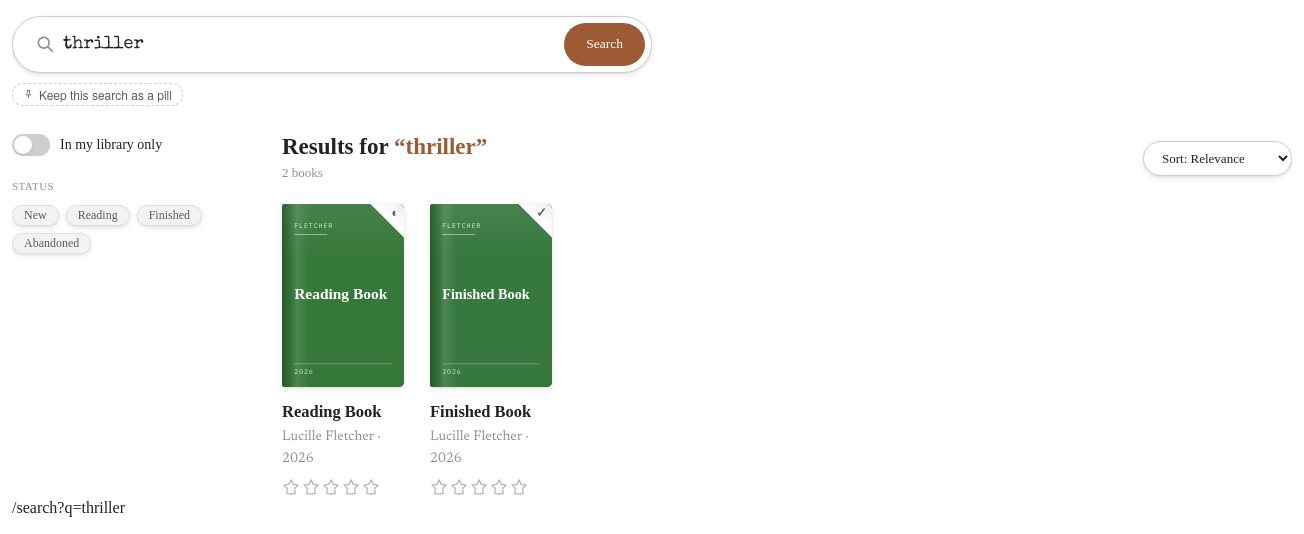
Scenario: SearchPage › filters to a status client-side without refetching
Expected: the button "Reading Book" is shown, x1=282 y1=204 x2=404 y2=496
Step 1. Click the button "Reading" → (98, 215), box x1=66 y1=205 x2=130 y2=226
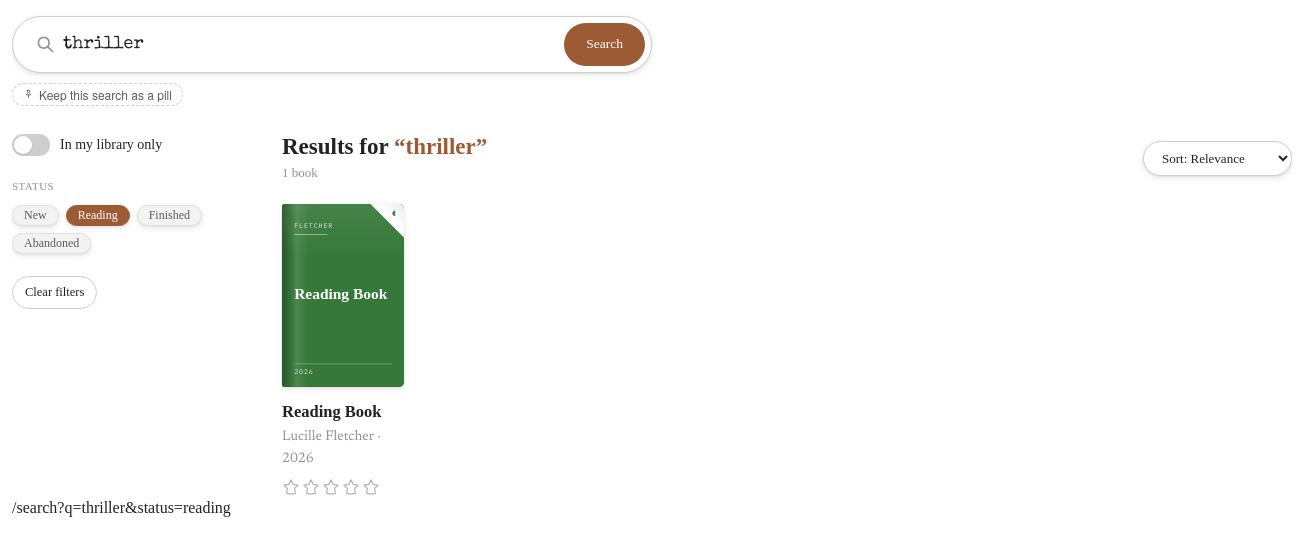
Expected: the button "Reading Book" is shown, x1=282 y1=204 x2=404 y2=496
Expected: the button "Finished Book" is gone
